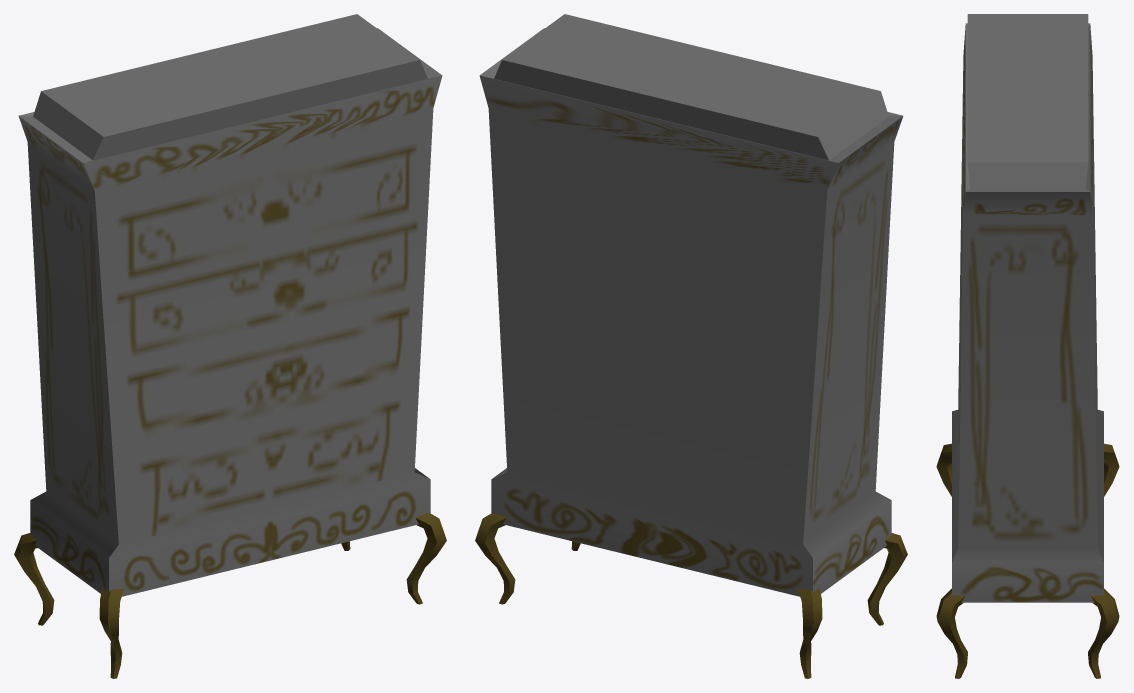
Rendered from 05 cajonero.obj.
3 renders of one model, left to right at view 1: azimuth 30°, elevation 25°; view 2: azimuth 150°, elevation 25°; view 3: azimuth 270°, elevation 25°, orthographic. The views are drawn at different scales.
Visible parts, largest first — view 1: pCube1, sweep2 group1; view 2: pCube1, sweep2 group1; view 3: pCube1, sweep2 group1.
Part boxes in pixels (<box>): pCube1: <box>18,14,442,596</box>; sweep2 group1: <box>14,512,446,678</box>; pCube1: <box>479,14,903,596</box>; sweep2 group1: <box>475,512,907,678</box>; pCube1: <box>952,14,1103,602</box>; sweep2 group1: <box>936,443,1119,678</box>.
Size of the model in its own units: 72.67 by 104 by 33.33.
2 materials, 2 textured.
